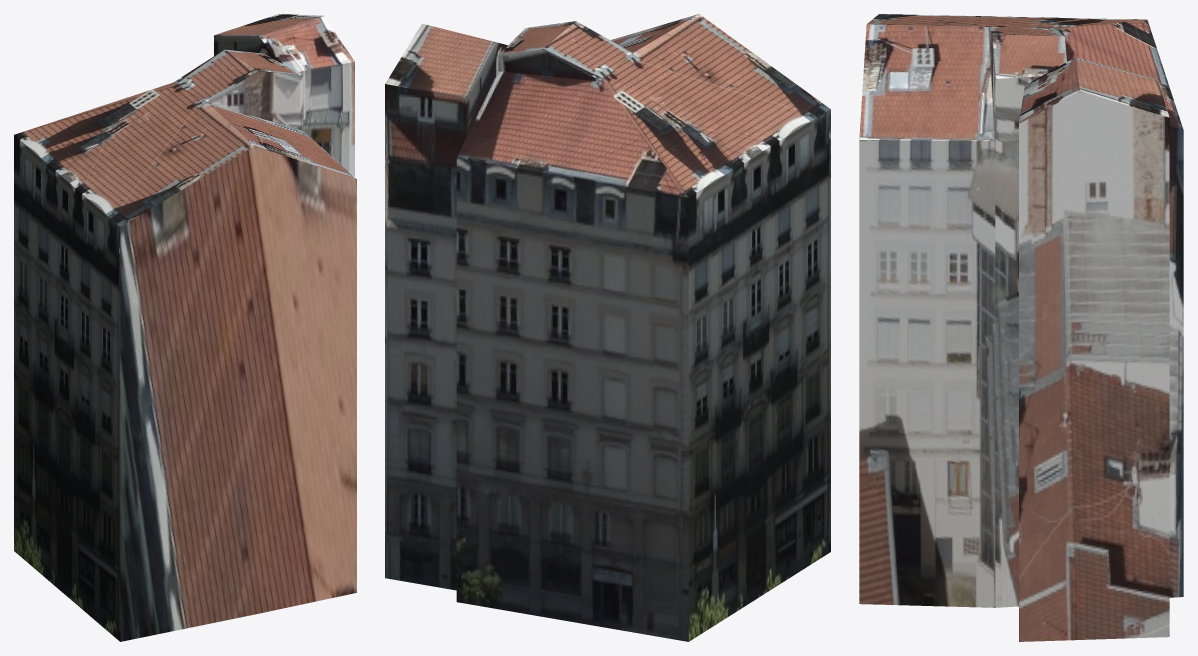
3 views of the same model, side by side, from view 1: azimuth 30°, elevation 25°; view 2: azimuth 150°, elevation 25°; view 3: azimuth 270°, elevation 25° (orthographic). The views are drawn at different scales.
Parts seen in each view (by area): view 1: Z_UP; view 2: Z_UP; view 3: Z_UP.
Part boxes in pixels (x1,y1,x2,y2): Z_UP: [14, 14, 356, 641]; Z_UP: [385, 14, 830, 641]; Z_UP: [859, 14, 1183, 641].
Size of the model in its own units: 18.86 by 29.67 by 15.89.
2 materials, 1 textured.
